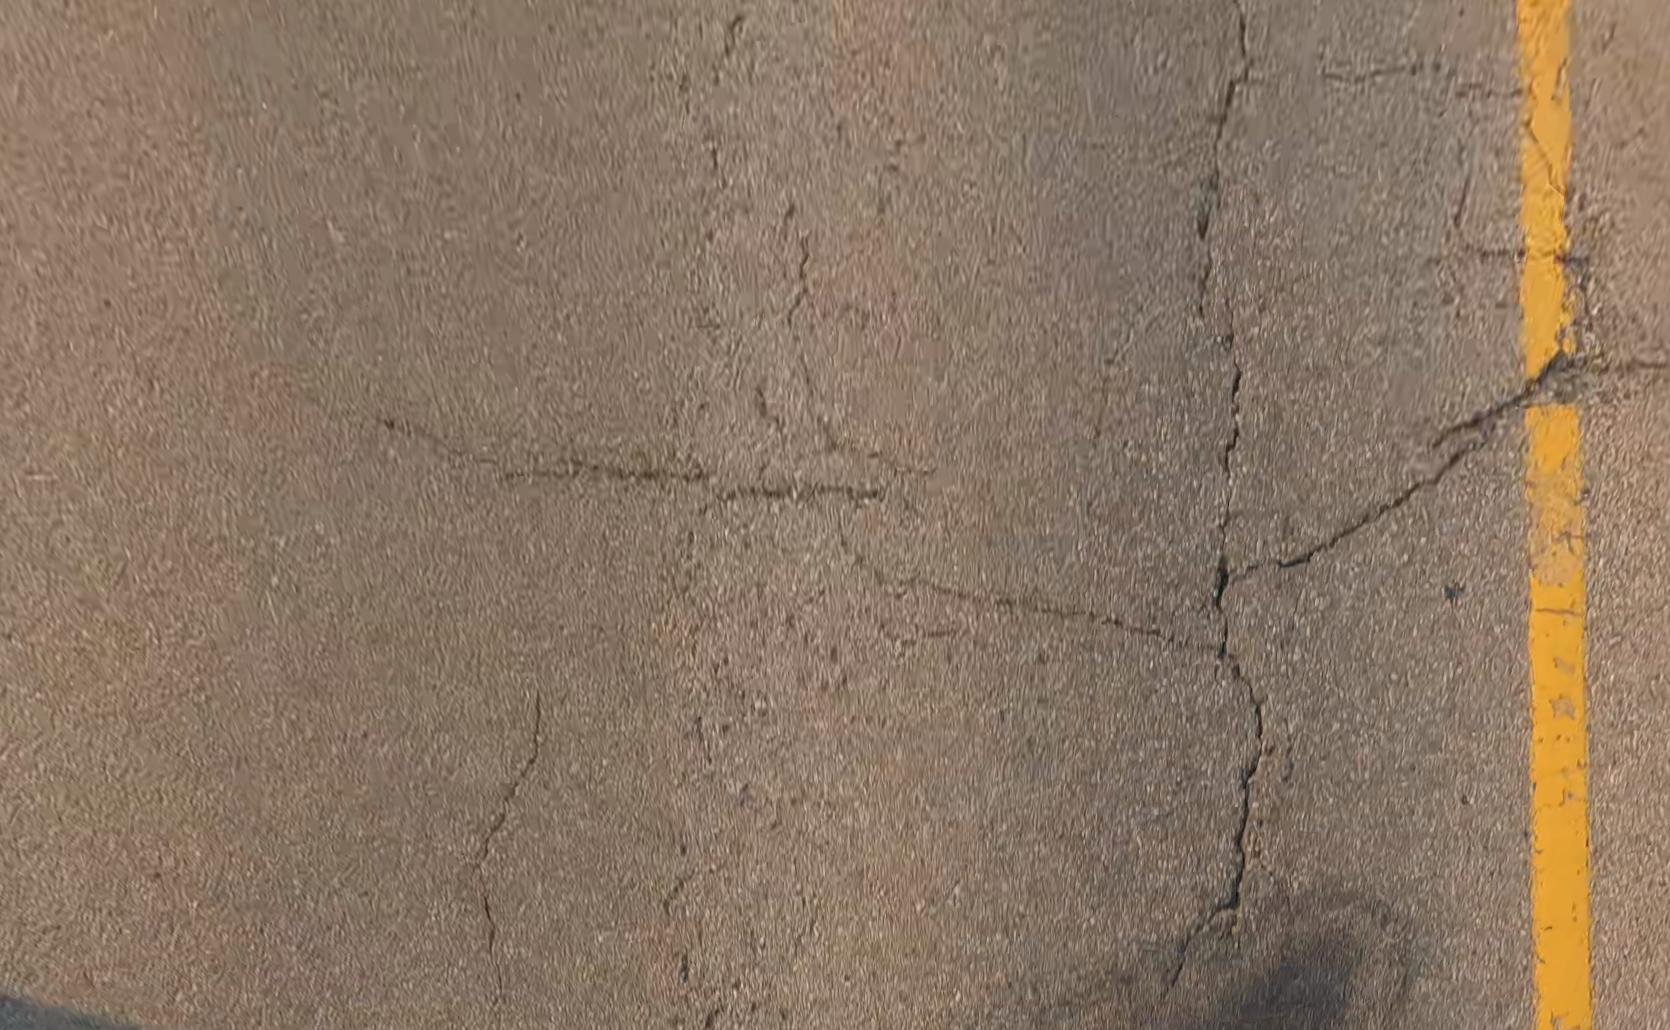pothole: (1514, 352, 1668, 415)
